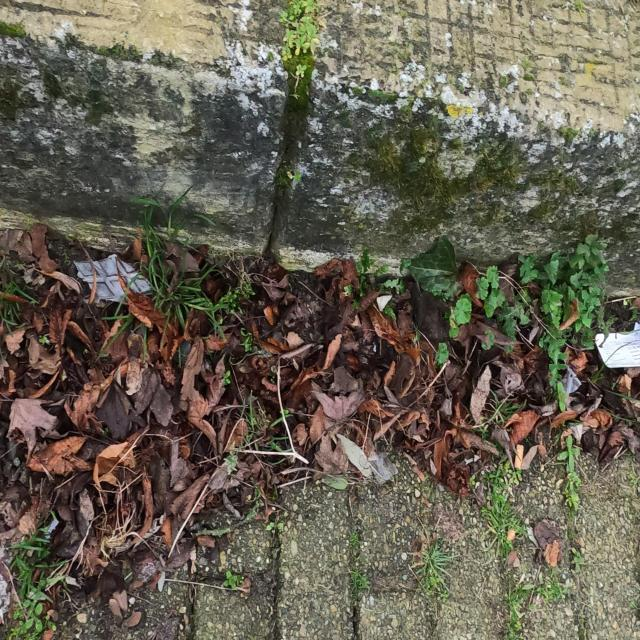Paper: (596, 320, 640, 370)
